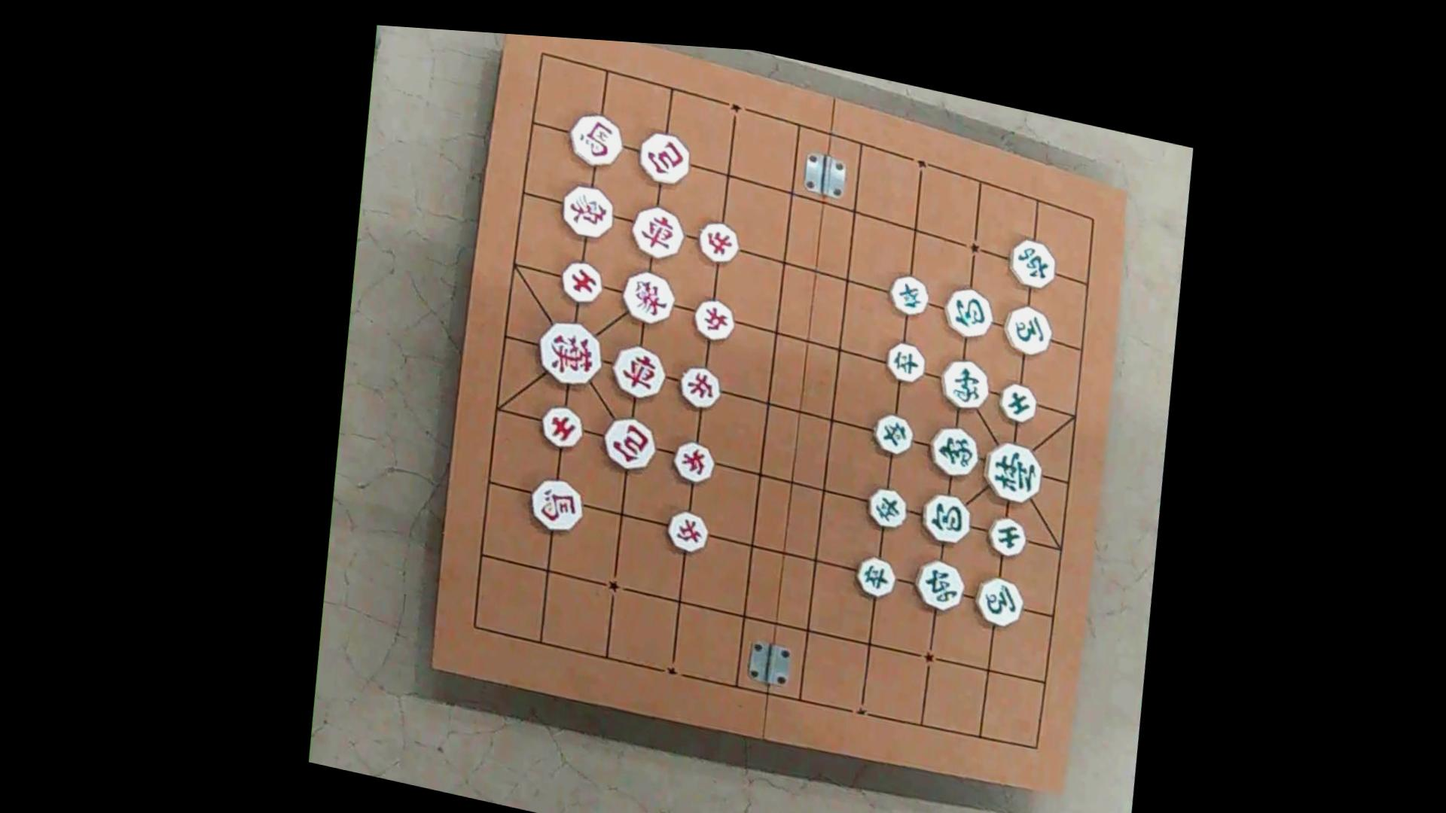cha_green: (909, 556, 969, 617), (1004, 235, 1060, 293)
cha_red: (608, 342, 670, 403), (627, 202, 688, 263)
jol_green: (851, 554, 898, 601), (885, 271, 932, 318), (869, 411, 916, 458), (882, 340, 928, 385), (864, 486, 909, 532)
jol_red: (675, 363, 724, 412), (669, 437, 718, 486), (663, 507, 711, 556), (694, 218, 742, 266), (690, 296, 737, 343)
ma_green: (970, 572, 1027, 631), (999, 302, 1055, 361)
ma_red: (565, 109, 627, 172), (526, 474, 587, 536)
po_green: (917, 489, 976, 550), (939, 282, 996, 343)
po_red: (598, 413, 660, 476), (633, 128, 694, 190)
sa_green: (983, 513, 1030, 561), (995, 379, 1040, 427)
sa_red: (537, 402, 587, 451), (557, 258, 606, 306)
sang_green: (924, 421, 984, 482), (935, 354, 993, 414)
sang_red: (557, 181, 618, 242), (618, 266, 678, 327)
wang_green: (978, 437, 1047, 508)
wang_red: (532, 316, 608, 391)
